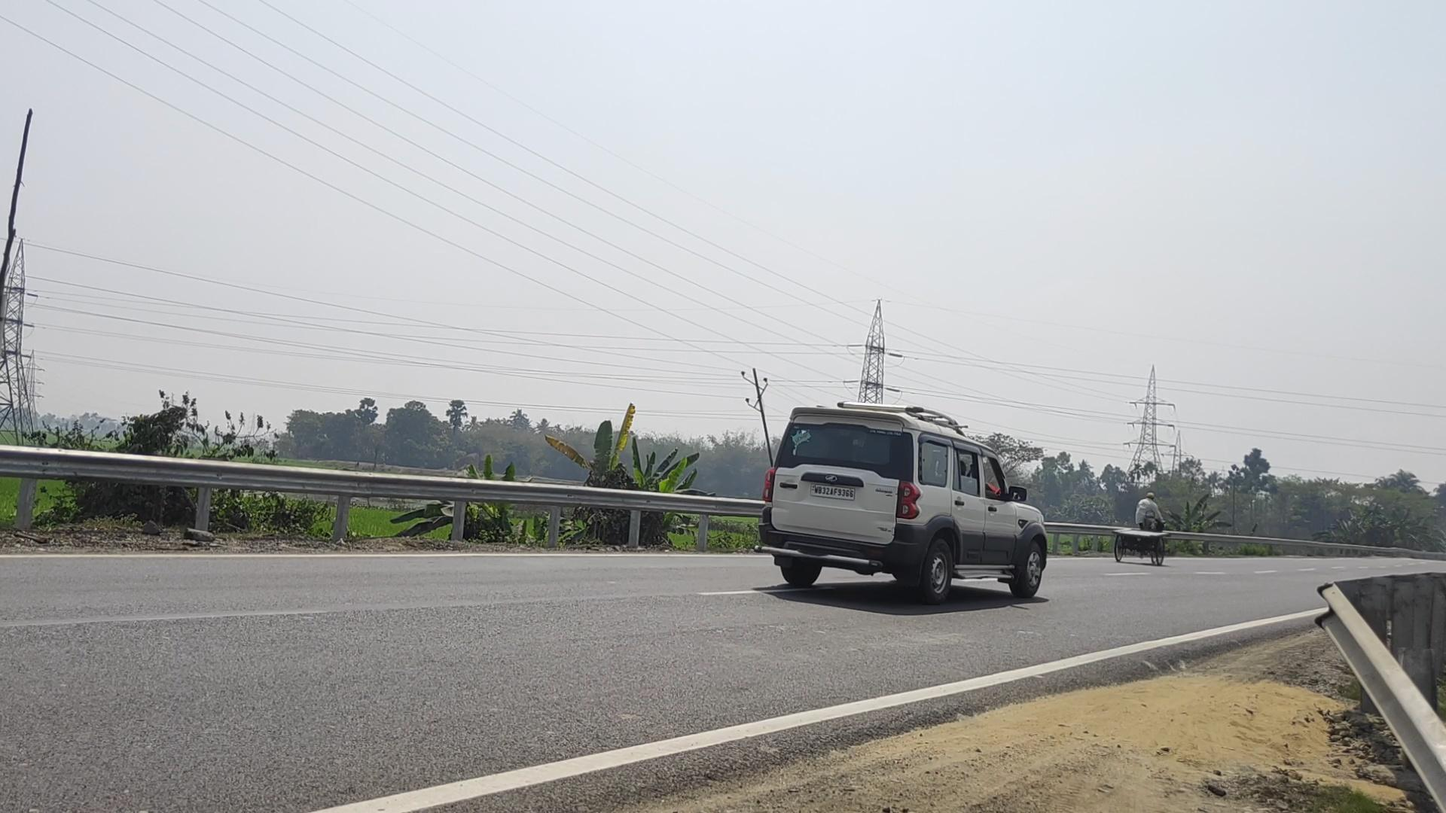car: (753, 400, 1047, 604)
